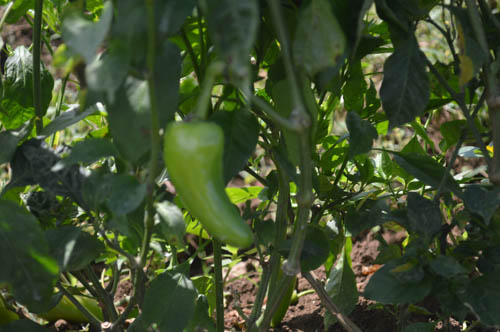ChiliPepper: (172, 121, 250, 248)
